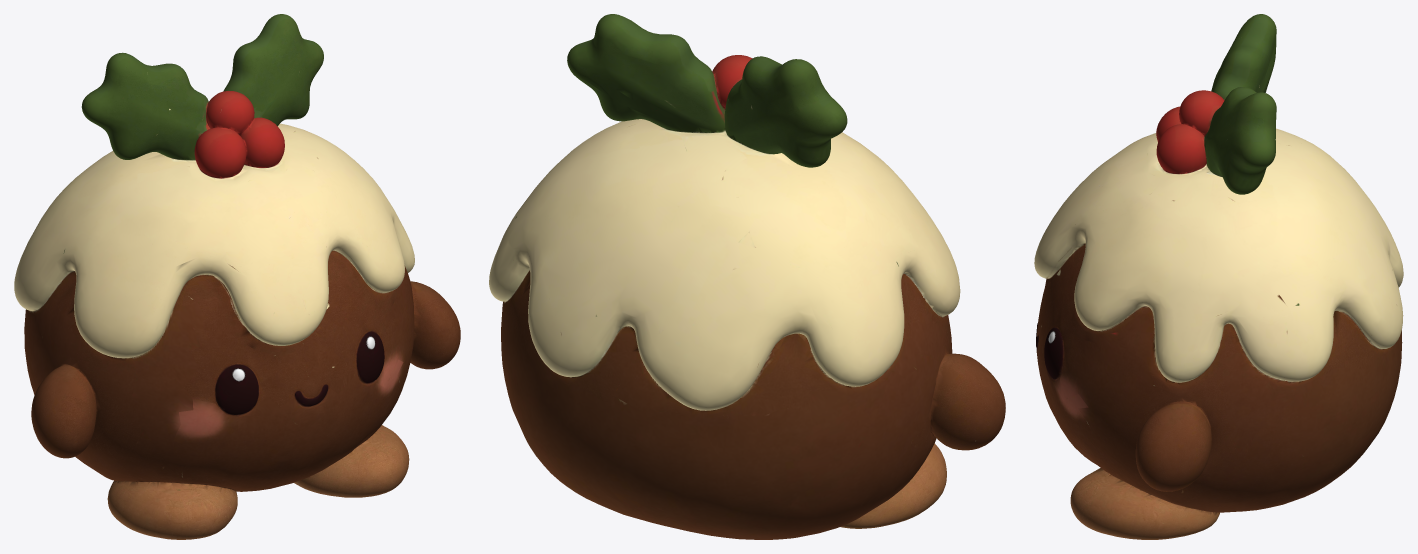
The model's file is Bundy.fbx.
3 renders of one model, left to right at view 1: azimuth 30°, elevation 25°; view 2: azimuth 150°, elevation 25°; view 3: azimuth 270°, elevation 25°, orthographic. The views are drawn at different scales.
Visible parts, largest first — view 1: Mesh_0; view 2: Mesh_0; view 3: Mesh_0.
Part boxes in pixels (x1=…): Mesh_0: x1=14, y1=14, x2=460, y2=539; Mesh_0: x1=489, y1=14, x2=1005, y2=539; Mesh_0: x1=1034, y1=14, x2=1403, y2=539.
Bounding box in the file's own units: 202 × 194 × 153.
1 material, 1 textured.
